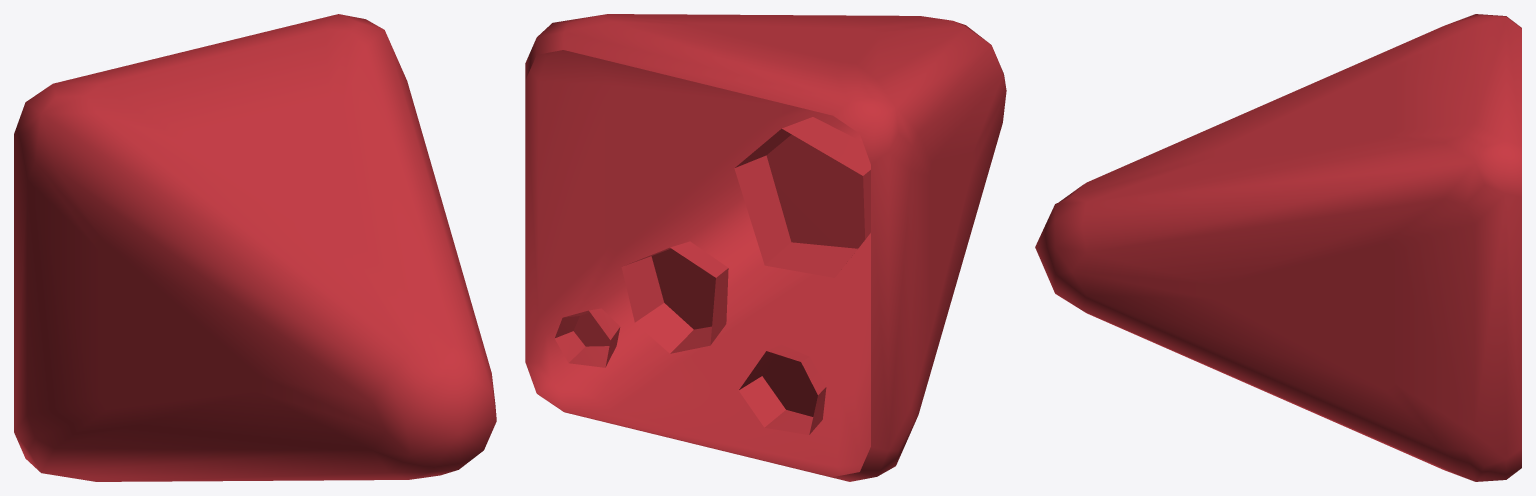
The model's file is airhockey_crate_geo.glb.
3 views of the same model, side by side, from view 1: azimuth 30°, elevation 25°; view 2: azimuth 150°, elevation 25°; view 3: azimuth 270°, elevation 25° (orthographic). The views are drawn at different scales.
Visible parts, largest first — view 1: pyramid_1; view 2: pyramid_1, pyramid_1_destroyed; view 3: pyramid_1.
Boxes of the visible parts, x1=… form: pyramid_1: x1=14, y1=14, x2=496, y2=481; pyramid_1: x1=525, y1=14, x2=1006, y2=481; pyramid_1_destroyed: x1=554, y1=117, x2=870, y2=434; pyramid_1: x1=1035, y1=14, x2=1521, y2=481.
Bounding box in the file's own units: 1.01 × 1.01 × 1.28.
